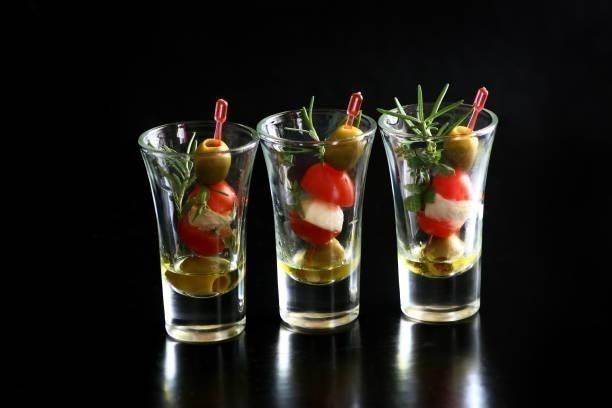glass-normal: (138, 117, 260, 343), (257, 105, 378, 331), (377, 100, 499, 323)
